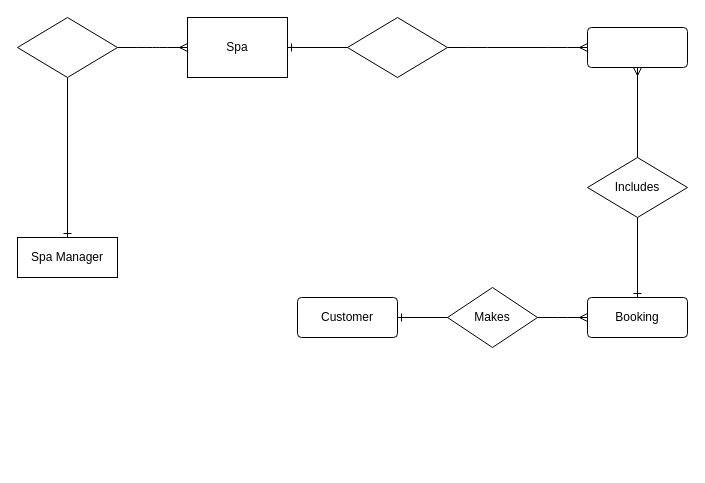
Some shapes in this 705 by 483 pixel diagram are drawn without their labels. The centre of each missing label's shape, as x and y in pixels:
Has: pixel 397 47
Manages: pixel 67 47
Service: pixel 637 47
